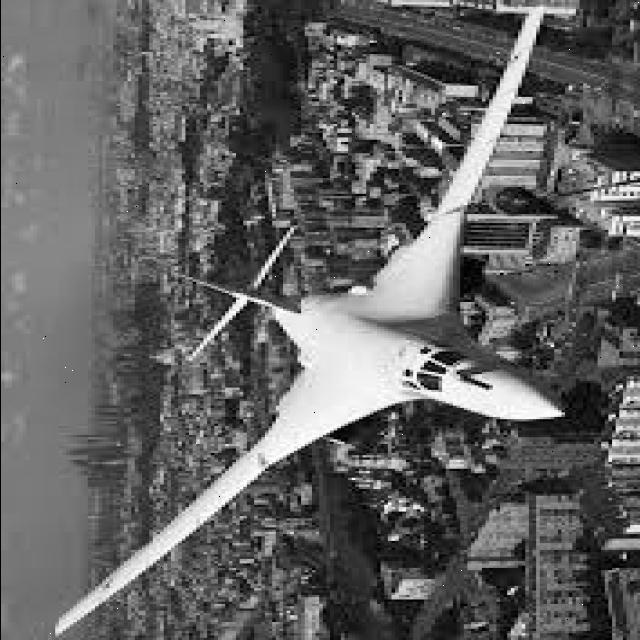Tu160: (13, 0, 616, 640)
